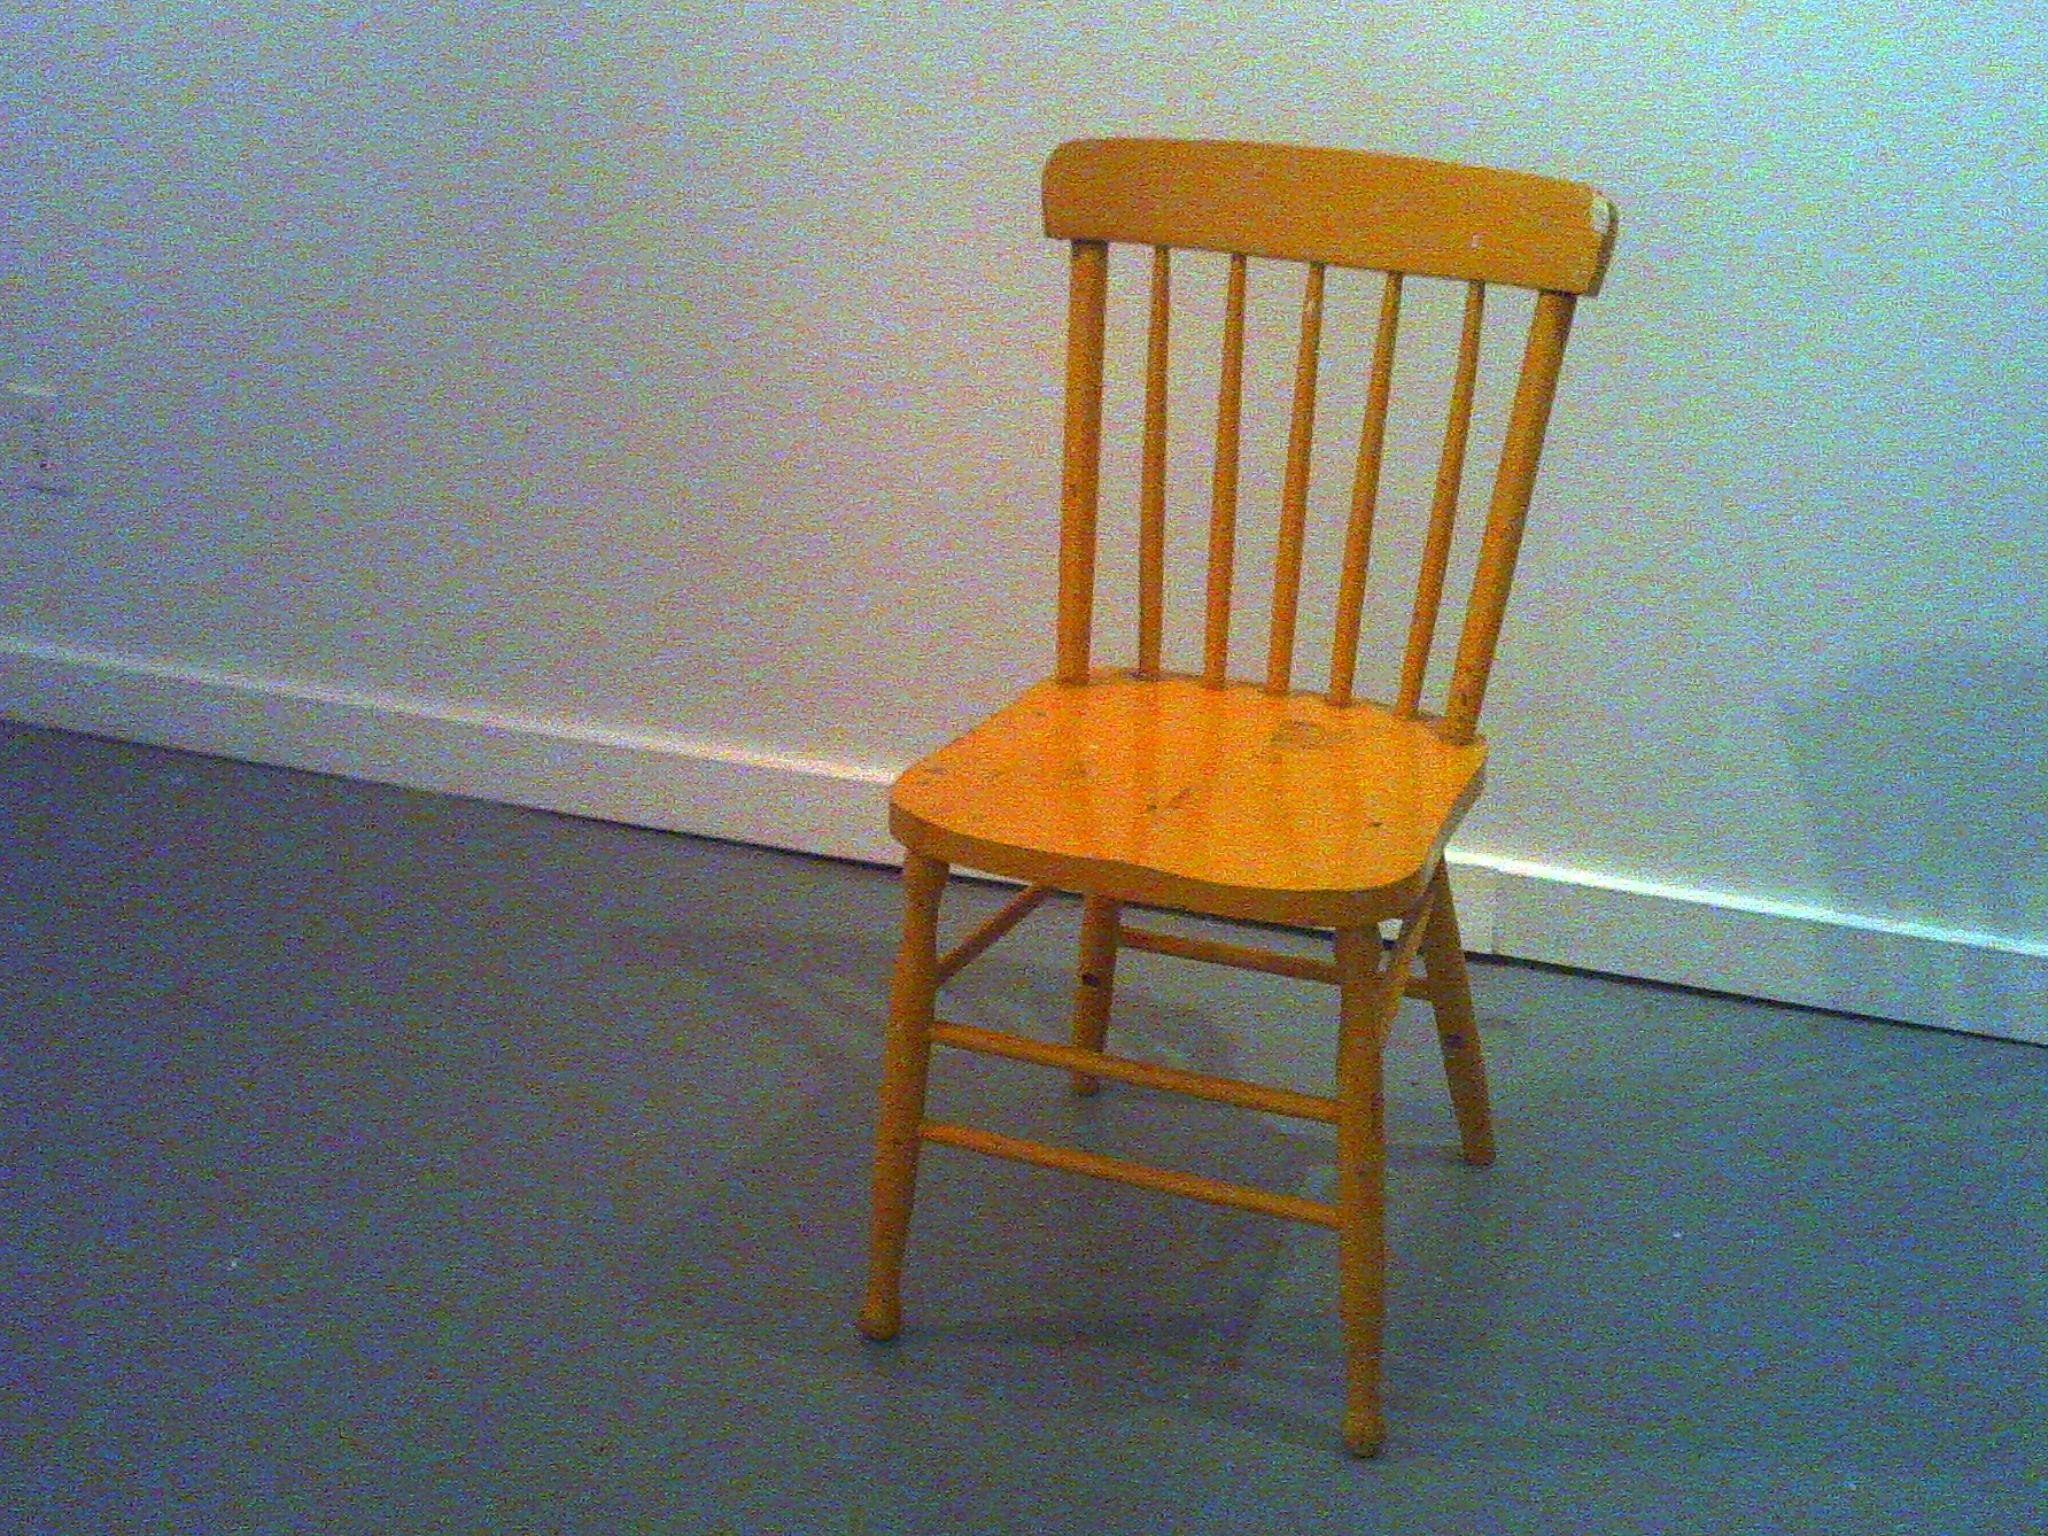chair: (855, 124, 1635, 1471)
